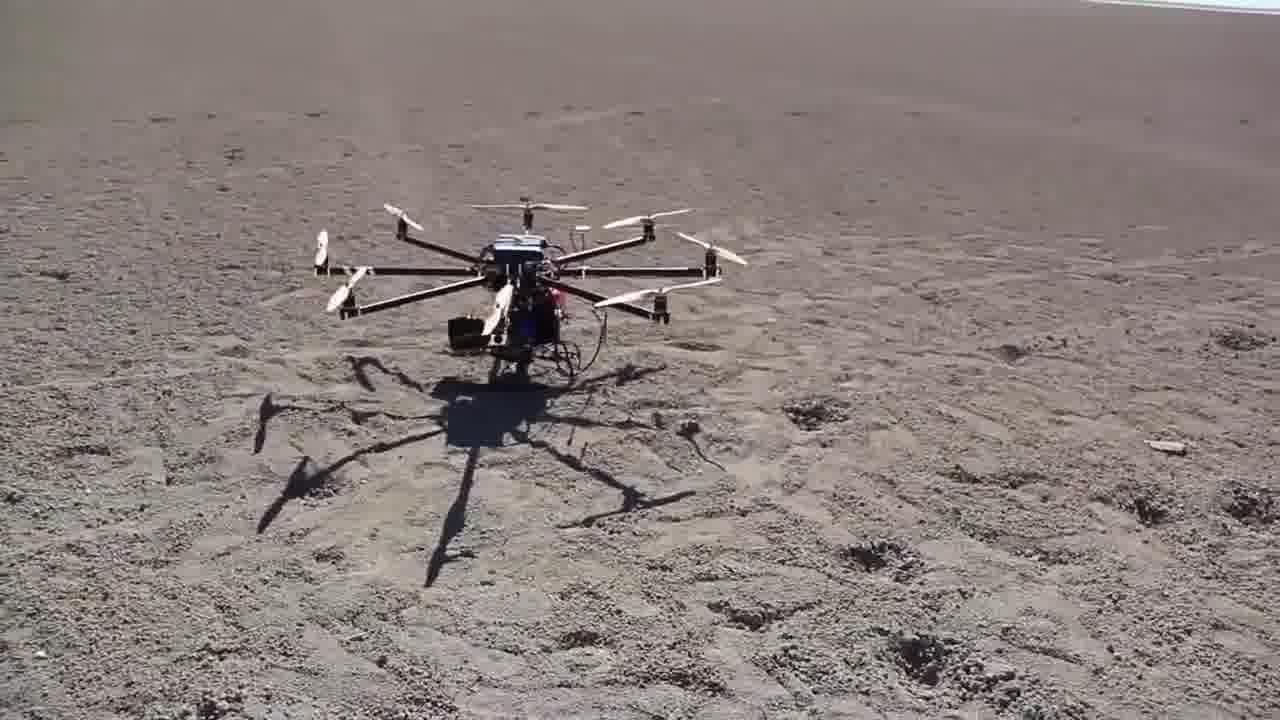drone: (299, 183, 751, 387)
